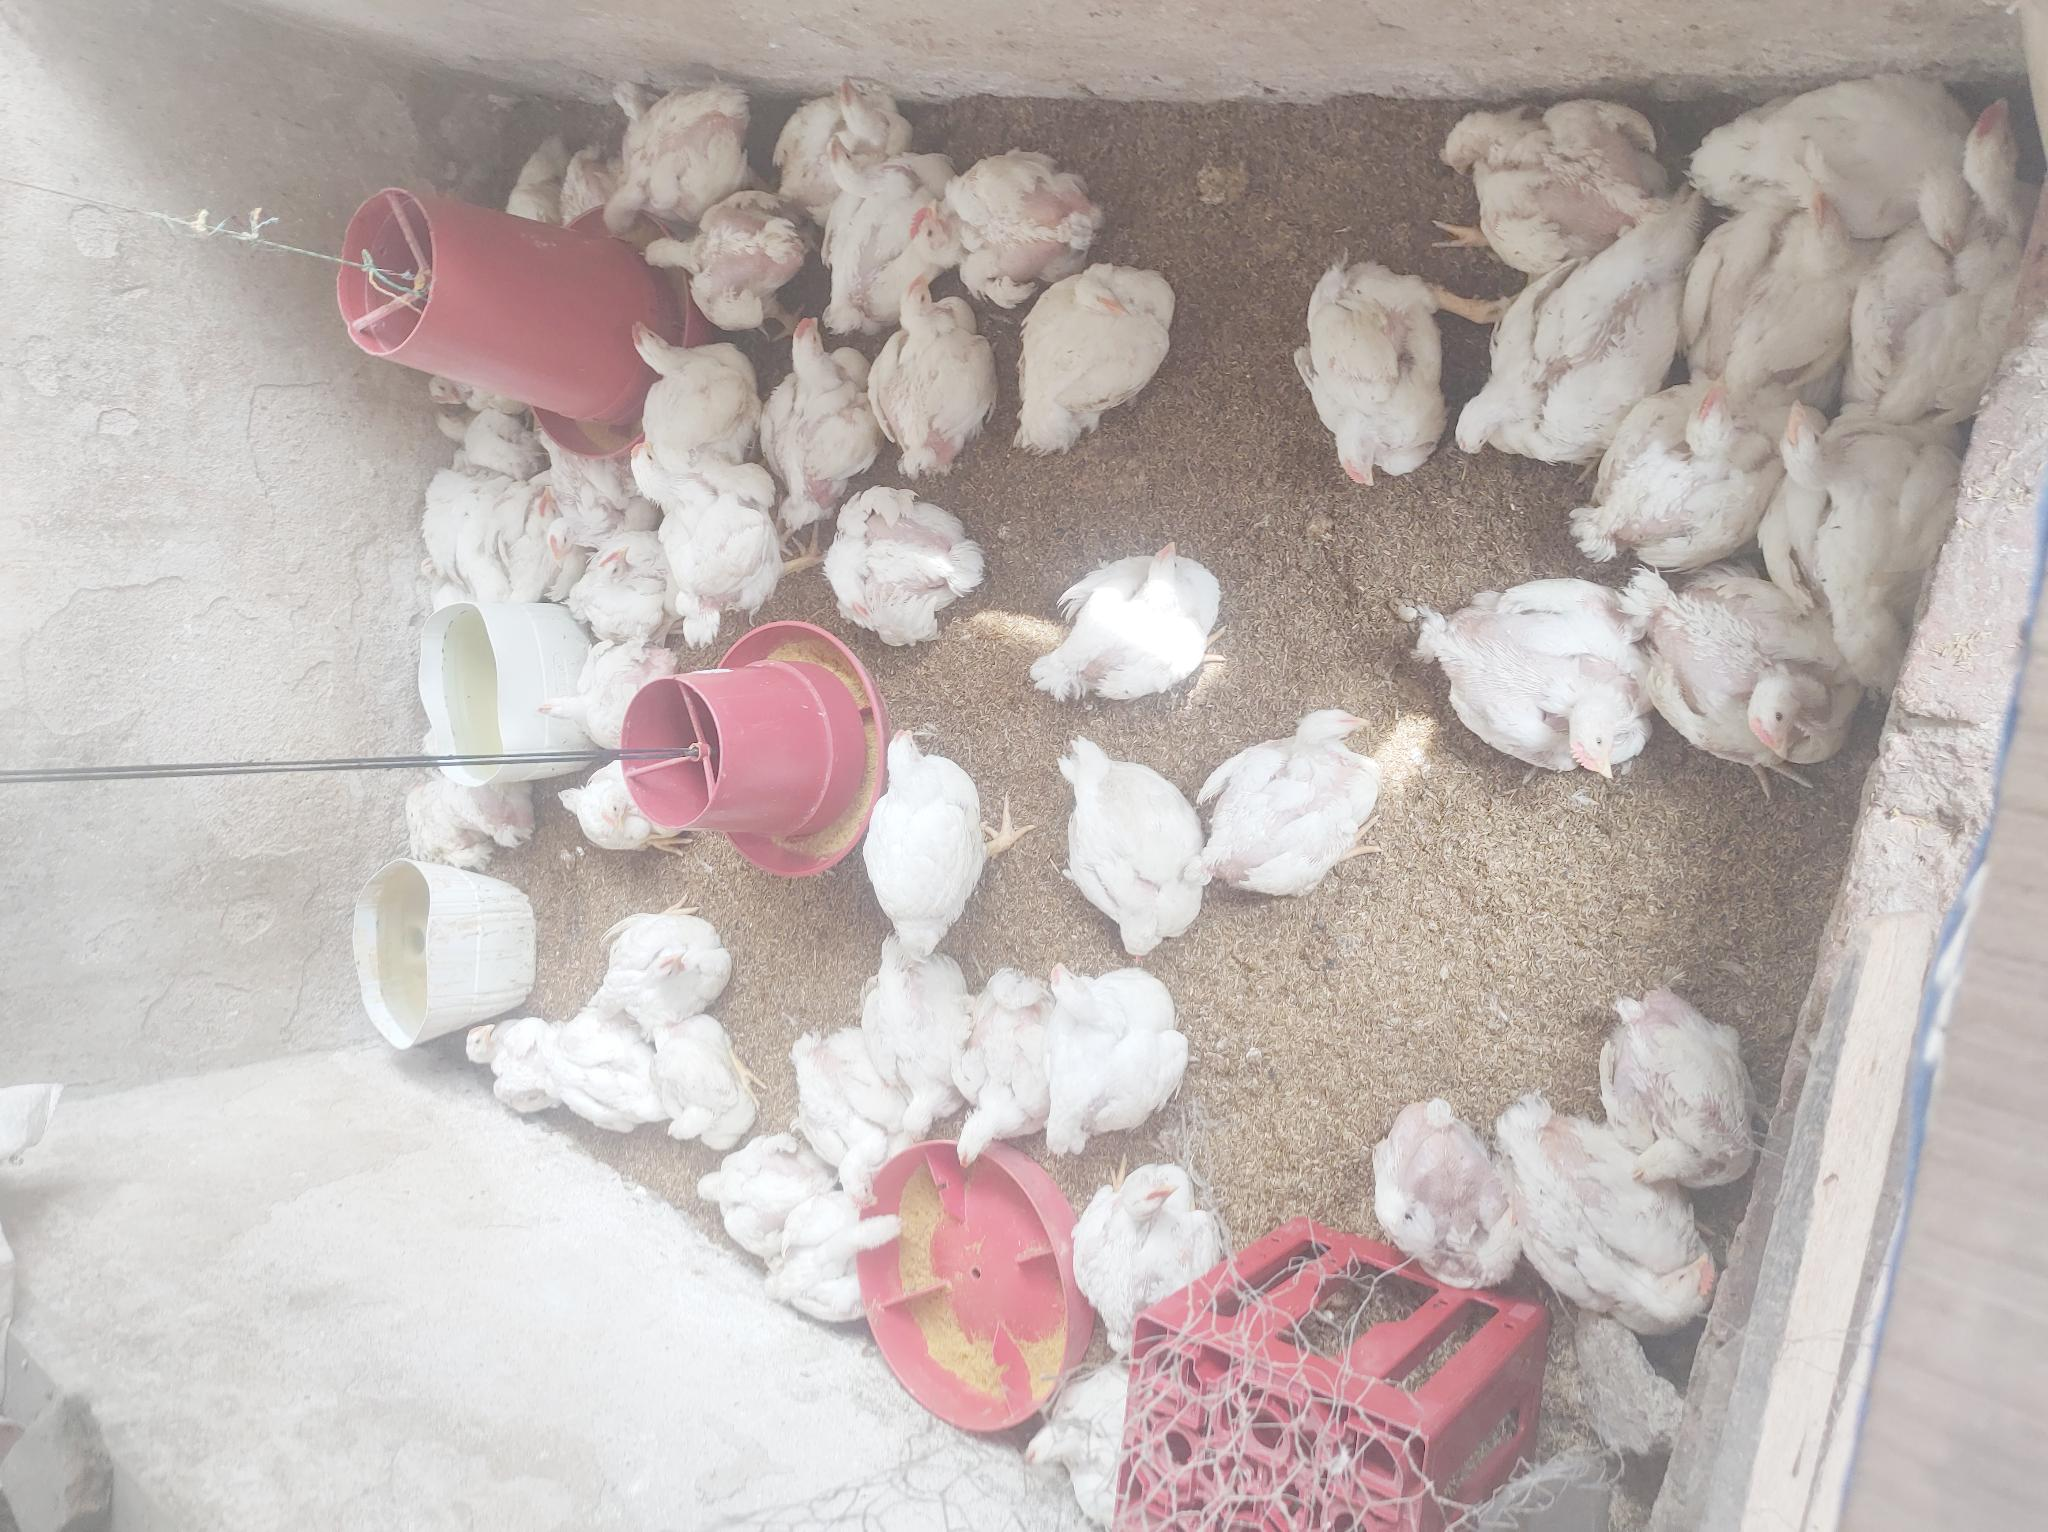Pollos: (1771, 391, 1972, 689), (1461, 232, 1700, 481), (1488, 1069, 1717, 1329), (1635, 542, 1858, 805), (1868, 101, 2045, 422), (1676, 68, 1980, 246), (1276, 233, 1459, 500), (1432, 574, 1651, 798), (1606, 978, 1815, 1189), (1705, 154, 1866, 414), (1552, 380, 1776, 565), (1438, 69, 1643, 256), (1202, 708, 1392, 901), (1063, 1159, 1256, 1334), (1047, 945, 1226, 1130), (1014, 256, 1191, 443), (917, 143, 1115, 304), (854, 727, 997, 949), (1046, 740, 1194, 953), (1367, 1106, 1528, 1300), (615, 430, 772, 628), (1041, 533, 1224, 695), (994, 1357, 1162, 1526), (869, 277, 997, 476), (759, 314, 874, 531), (634, 191, 804, 328), (853, 941, 964, 1139), (957, 961, 1071, 1152), (837, 489, 972, 640), (767, 1186, 906, 1332), (782, 1035, 914, 1186), (814, 137, 936, 298), (615, 71, 746, 209), (627, 315, 758, 447), (531, 634, 681, 748), (537, 1014, 663, 1143), (598, 904, 743, 1014), (560, 756, 698, 866), (401, 772, 531, 887), (792, 69, 915, 188), (640, 1019, 766, 1136), (681, 1130, 796, 1250), (407, 489, 510, 615), (571, 526, 671, 644), (479, 126, 586, 224), (549, 451, 624, 574), (459, 1012, 544, 1110), (422, 359, 518, 412), (434, 402, 507, 467), (513, 492, 571, 526)
